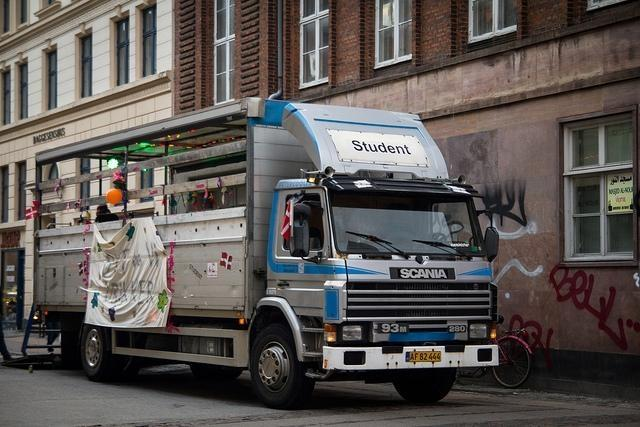bicycle: (493, 314, 533, 388)
truck: (22, 93, 507, 385)
